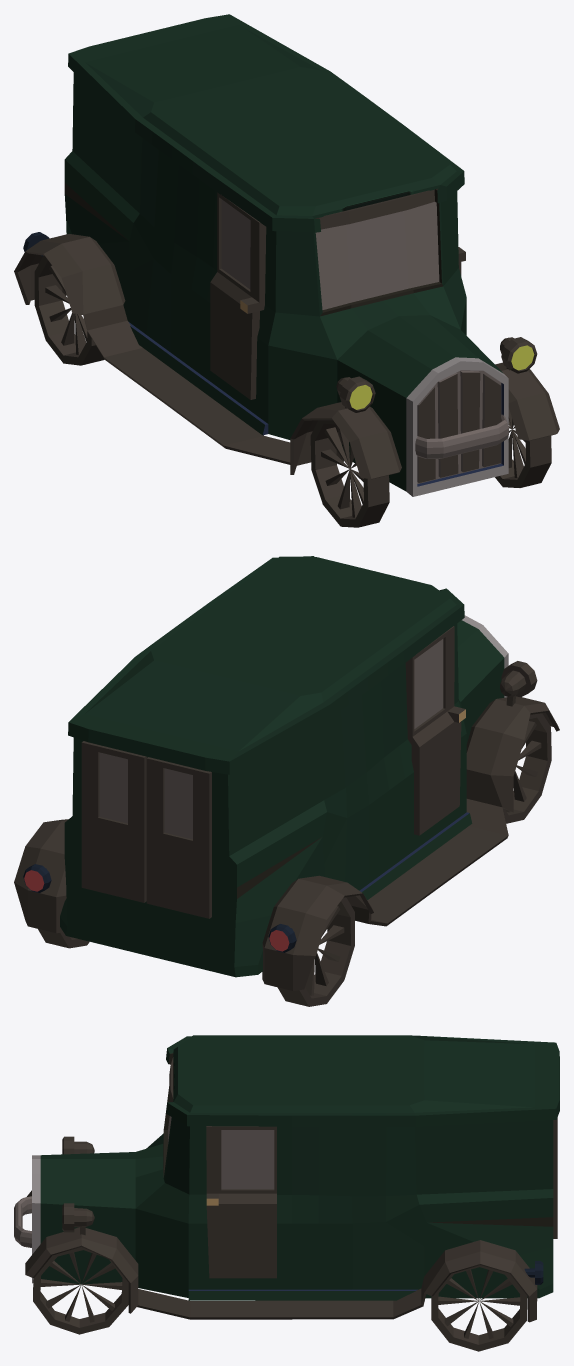
File: pickup_car.fbx
3 views of the same model, one above another, from view 1: azimuth 30°, elevation 25°; view 2: azimuth 150°, elevation 25°; view 3: azimuth 270°, elevation 25° (orthographic). The views are drawn at different scales.
Visible parts, largest first — view 1: Car_Pickup, wheel_front_right, wheel_back_right, wheel_front_left; view 2: Car_Pickup, pCube2, pCube1, wheel_back_right, wheel_front_right; view 3: Car_Pickup, wheel_back_left, wheel_front_left, pCube1.
Boxes of the visible parts, <box> form: Car_Pickup: <box>14,14,559,496</box>; wheel_front_right: <box>310,420,389,527</box>; wheel_back_right: <box>34,255,104,365</box>; wheel_front_left: <box>495,407,551,487</box>; Car_Pickup: <box>14,556,559,990</box>; pCube2: <box>146,757,211,918</box>; pCube1: <box>81,741,147,902</box>; wheel_back_right: <box>277,897,354,1006</box>; wheel_front_right: <box>503,713,551,823</box>; Car_Pickup: <box>14,1035,559,1322</box>; wheel_back_left: <box>431,1265,527,1351</box>; wheel_front_left: <box>33,1247,128,1334</box>; pCube1: <box>553,1118,557,1238</box>.
Size of the model in its own units: 194 by 166 by 361.
